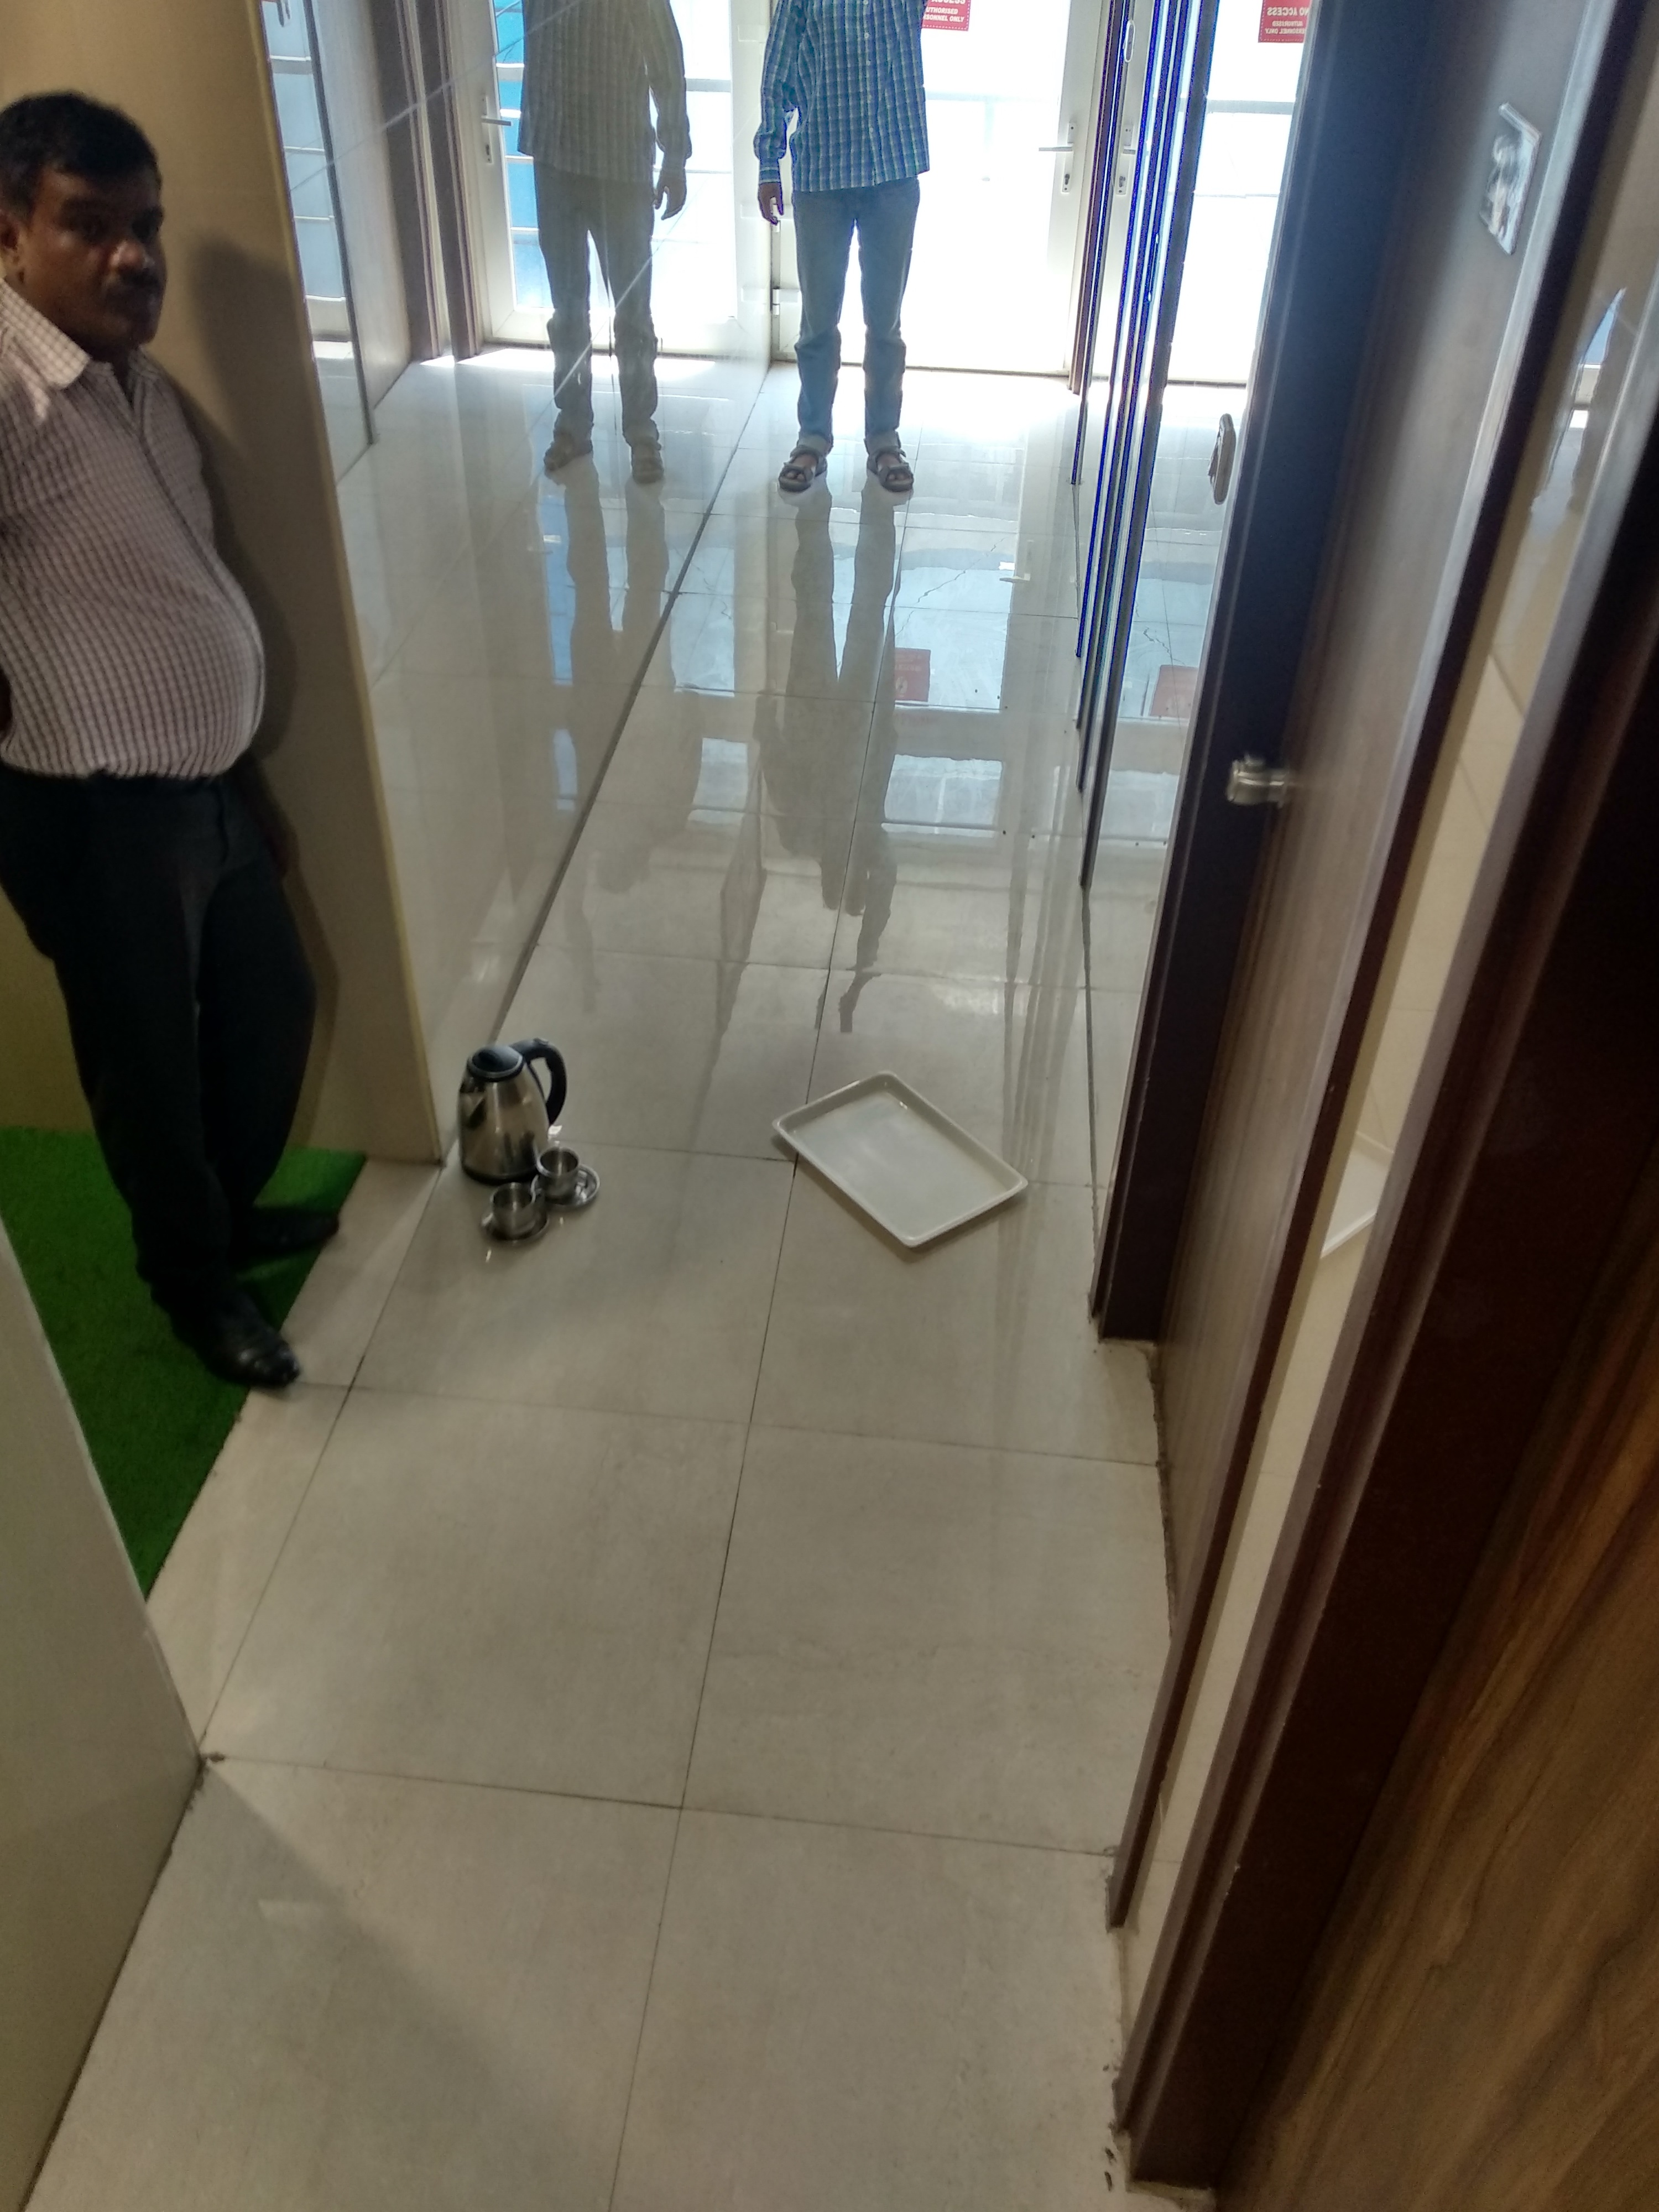CUP: (490, 1186, 537, 1233), (538, 1148, 582, 1188)
JUG: (453, 1038, 566, 1134)
